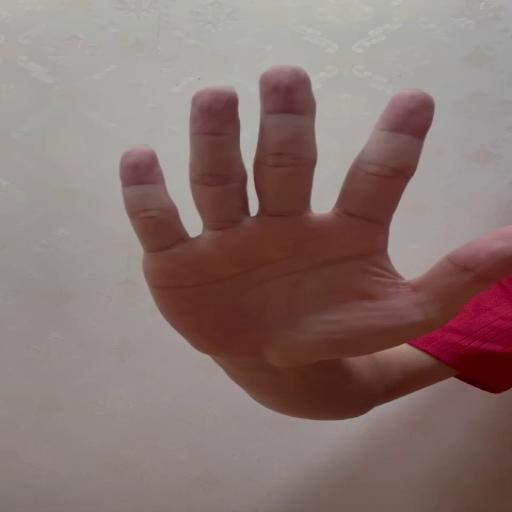open_palm: (117, 65, 512, 363)
